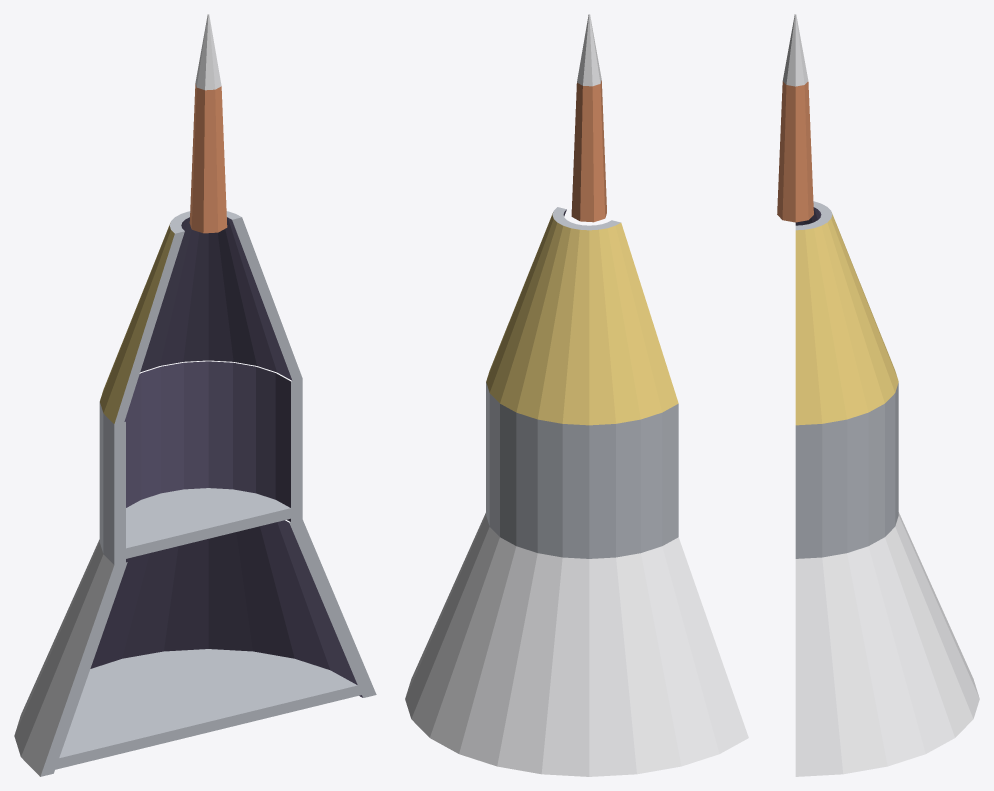
The model's file is cabin_cutaway.glb.
3 views of the same model, side by side, from view 1: azimuth 30°, elevation 25°; view 2: azimuth 150°, elevation 25°; view 3: azimuth 270°, elevation 25° (orthographic). The views are drawn at different scales.
Visible parts, largest first — view 1: Cabin; view 2: Cabin; view 3: Cabin.
Part boxes in pixels (bbox=[...]): Cabin: bbox=[14, 14, 376, 776]; Cabin: bbox=[405, 14, 748, 776]; Cabin: bbox=[777, 14, 979, 776].
Bounding box in the file's own units: 1 × 2.05 × 0.55.
